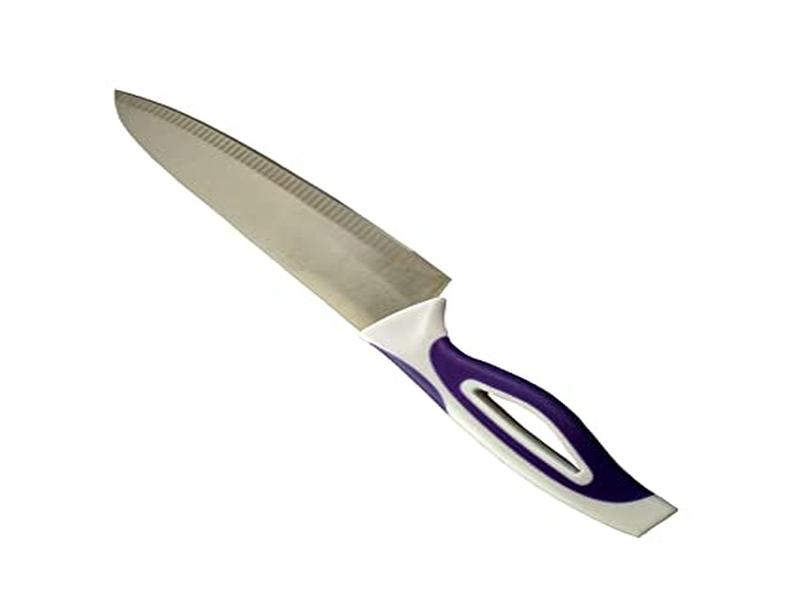KNIFE: (108, 84, 684, 542)
